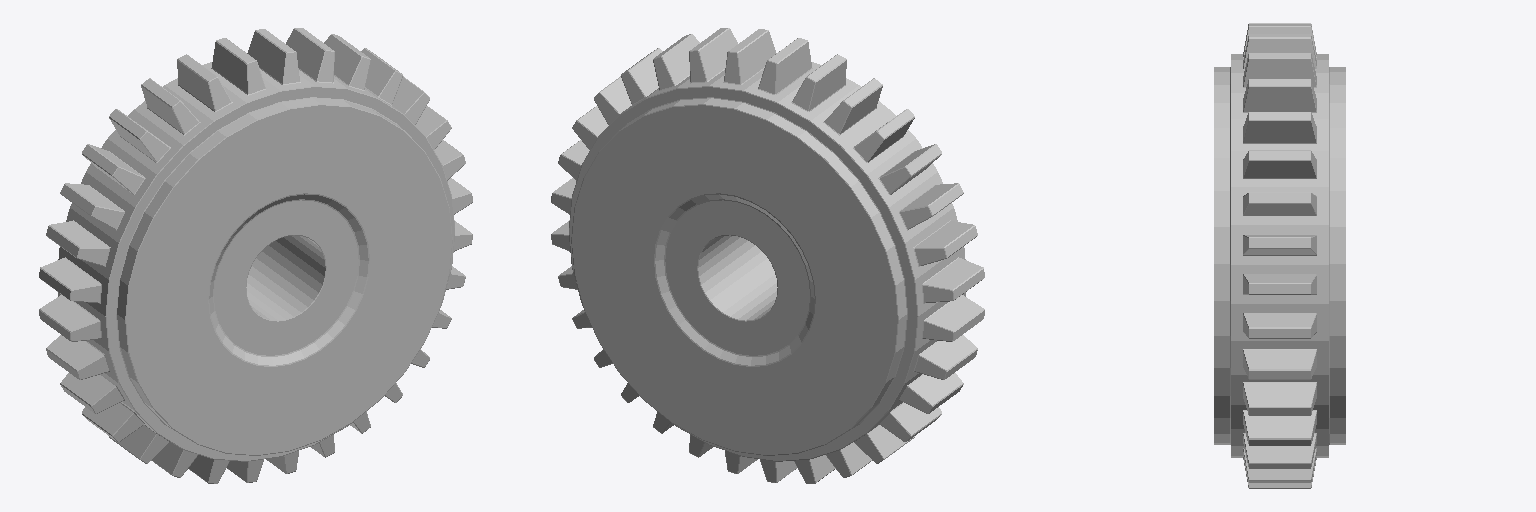
File: Gear.obj
3 renders of one model, left to right at view 1: azimuth 30°, elevation 25°; view 2: azimuth 150°, elevation 25°; view 3: azimuth 270°, elevation 25°, orthographic.
Parts seen in each view (by area): view 1: Cylinder; view 2: Cylinder; view 3: Cylinder.
Part boxes in pixels (bbox=[...]): Cylinder: bbox=[39, 28, 472, 483]; Cylinder: bbox=[551, 28, 984, 483]; Cylinder: bbox=[1214, 23, 1345, 488].
Bounding box in the file's own units: 2.46 × 2.46 × 0.7002.